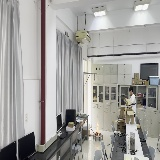fire: (95, 114, 100, 135)
